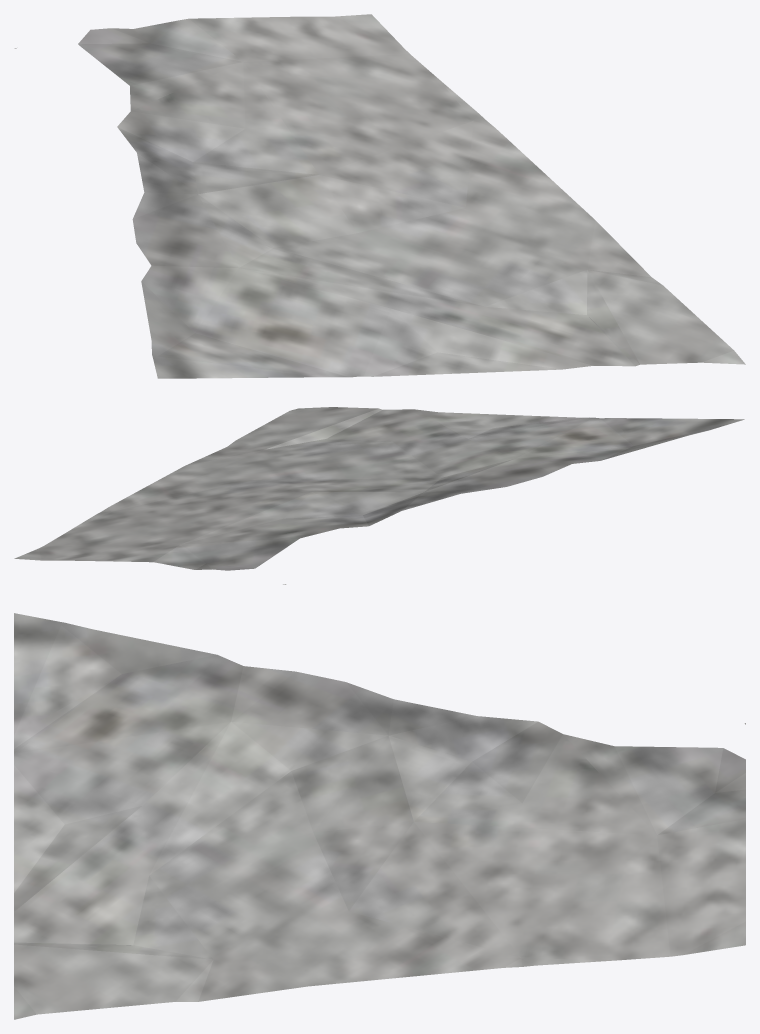
3 renders of one model, top to bottom at view 1: azimuth 30°, elevation 25°; view 2: azimuth 150°, elevation 25°; view 3: azimuth 270°, elevation 25°, orthographic. The views are drawn at different scales.
Bounding box in the file's own units: 0.7593 × 0.1595 × 0.8374.
2 materials, 2 textured.
